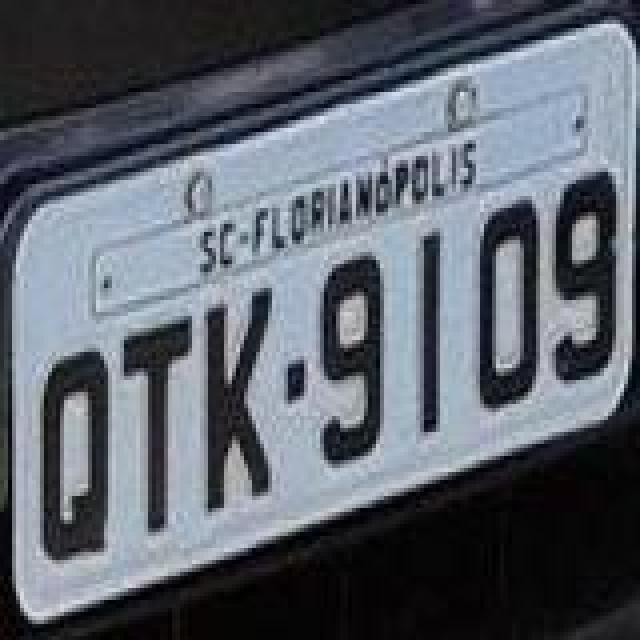1: (420, 222, 444, 434)
9: (550, 172, 618, 388), (320, 252, 384, 468)
K: (206, 288, 274, 512)
O: (480, 196, 544, 412)
Q: (36, 346, 108, 566)
T: (124, 312, 196, 536)
